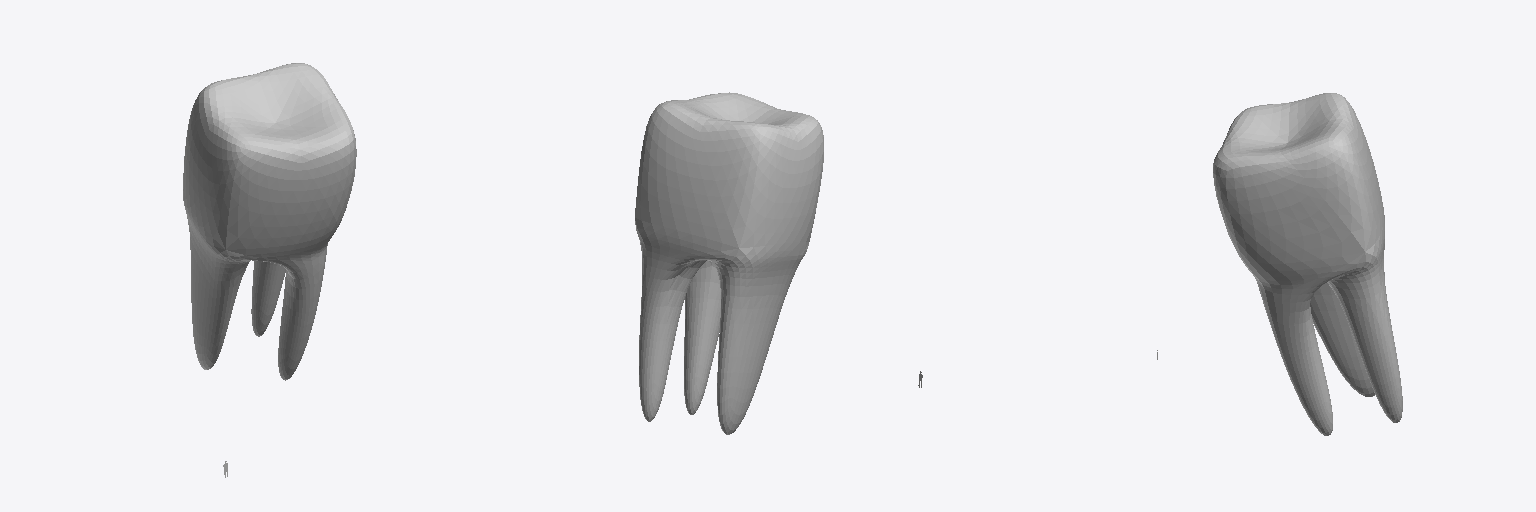
The picture shows the model from 3 angles: view 1: azimuth 30°, elevation 25°; view 2: azimuth 150°, elevation 25°; view 3: azimuth 270°, elevation 25°; orthographic projection.
Parts seen in each view (by area): view 1: Mesh1 Group1 Model; view 2: Mesh1 Group1 Model; view 3: Mesh1 Group1 Model.
Boxes of the visible parts, x1,y1,x2,y2 form: Mesh1 Group1 Model: [183, 63, 356, 380]; Mesh1 Group1 Model: [635, 92, 823, 434]; Mesh1 Group1 Model: [1213, 93, 1402, 435].
Bounding box in the file's own units: 20.73 × 32.68 × 23.54.